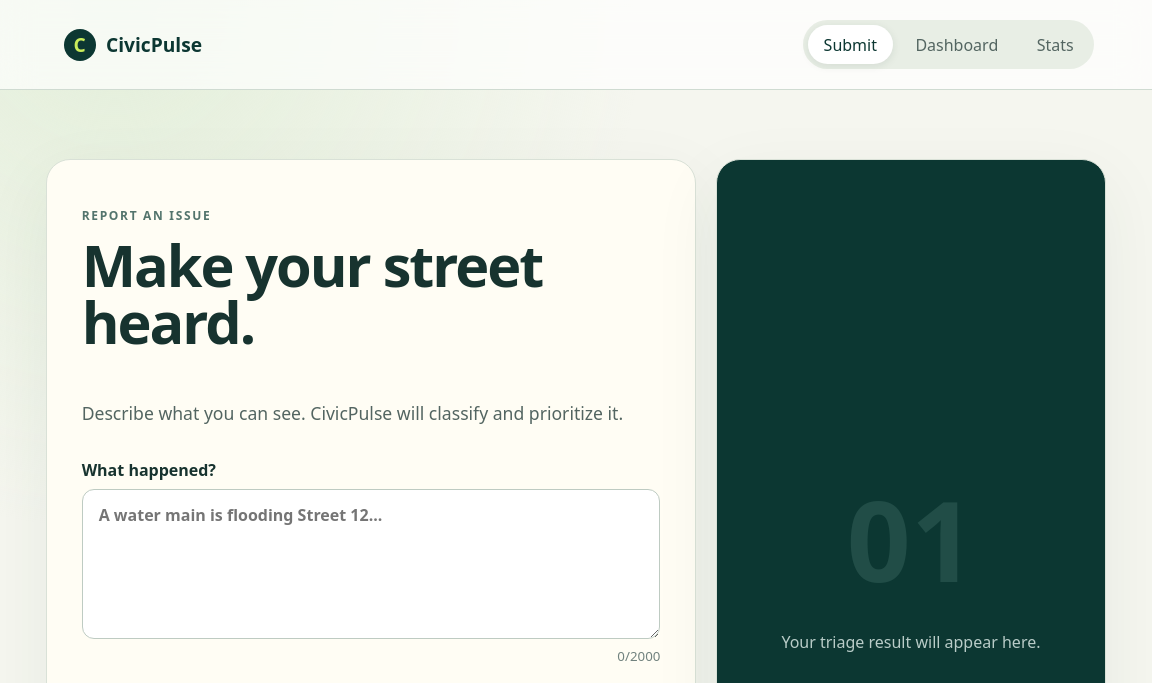
Test case: CivicPulse › renders category, priority, summary, and provider after submission
Type "Water main is flooding the street" into the text box labelled "What happened?" at [371, 564], box [82,489,660,639]
(page scrolled)
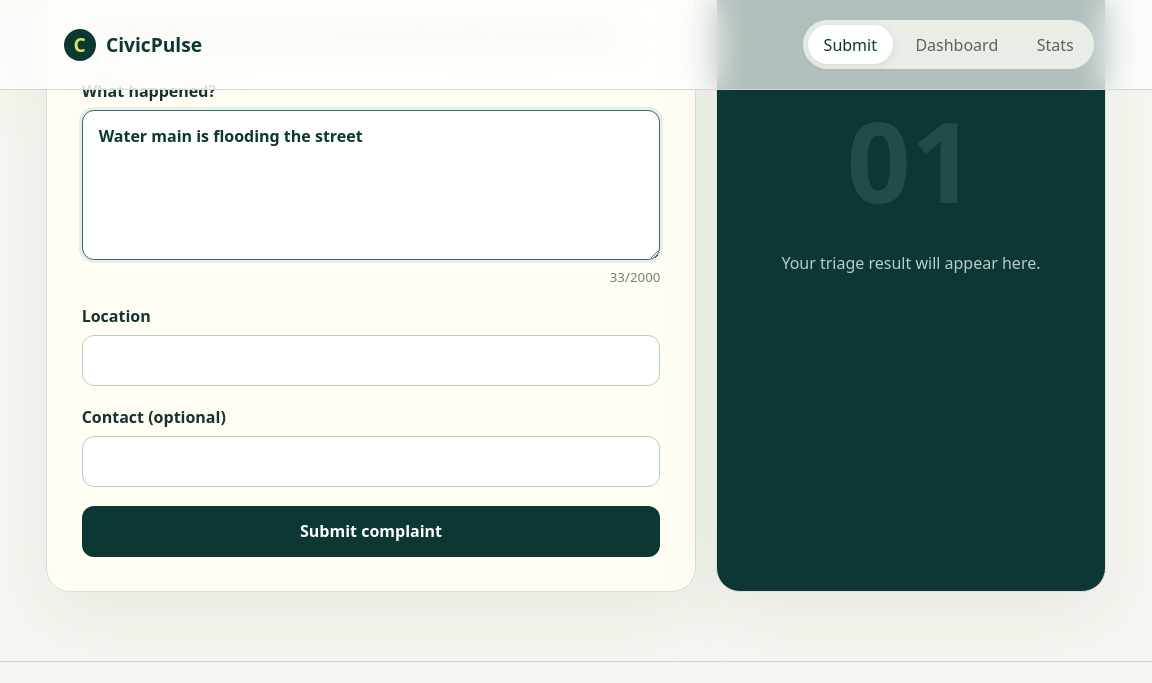
Type "Street 12" into the field labelled "Location" at [371, 361], box [82,335,660,386]
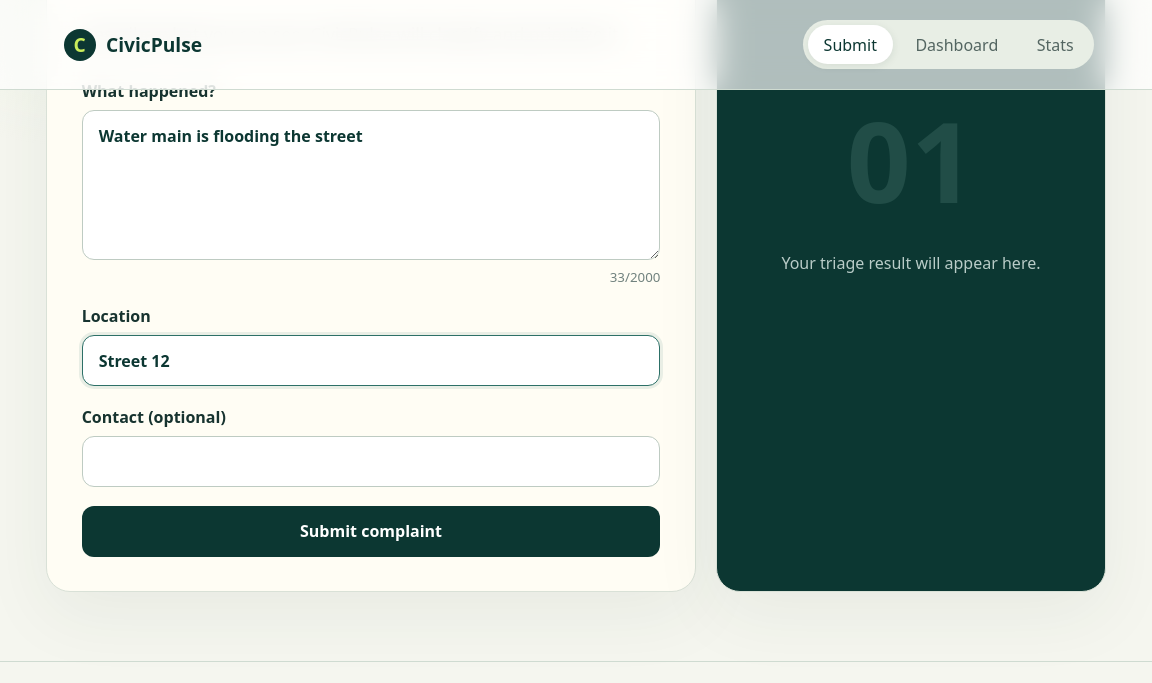
Click the button "Submit complaint" at [371, 531], box [82,506,660,557]
(page scrolled)
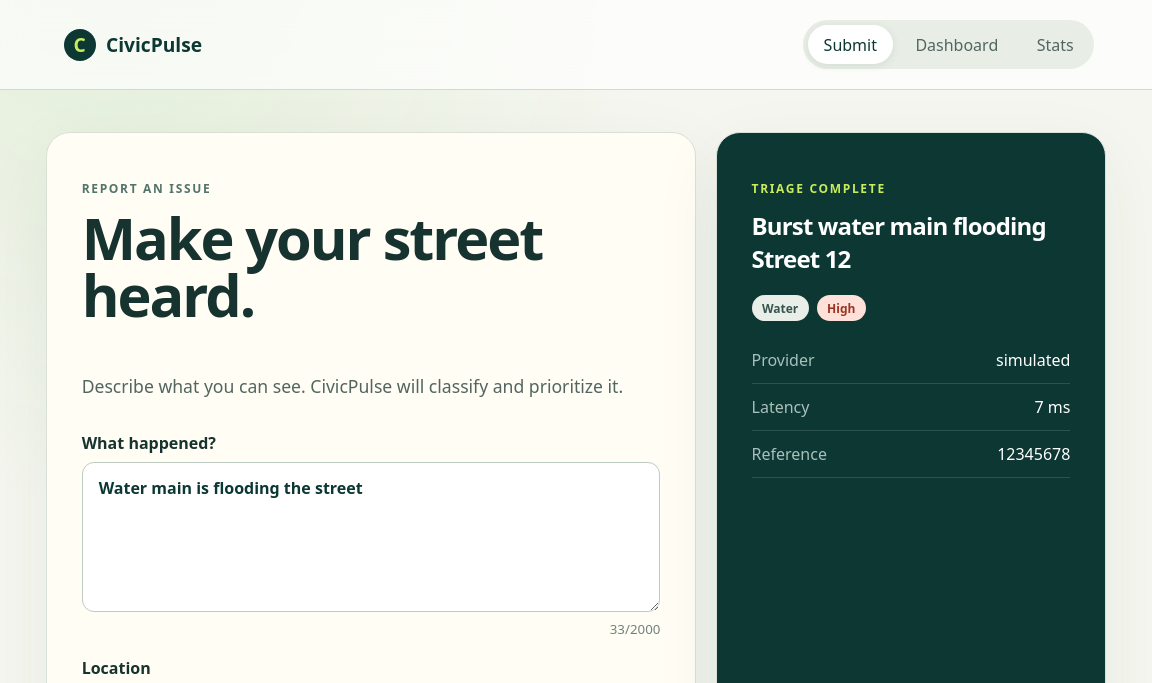
Result: the heading "Burst water main flooding Street 12" is shown at [752,209,1070,275]
Result: the text "water" is shown at [752,295,809,321]
Result: the text "high" is shown at [817,295,866,321]
